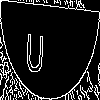U: (25, 24, 46, 74)
